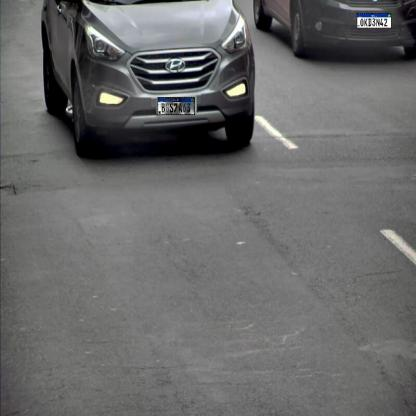PlacaM: (158, 97, 195, 115), (356, 13, 392, 29)
